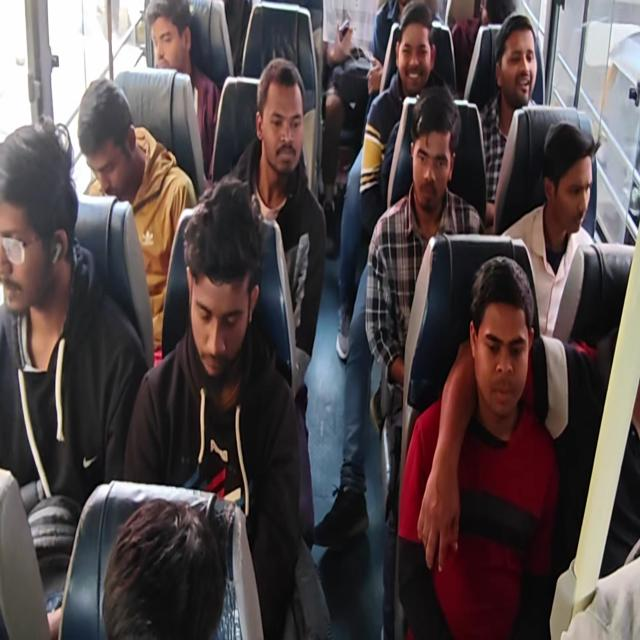person: (1, 1, 638, 639), (122, 175, 330, 638), (434, 120, 638, 579), (0, 115, 149, 636), (364, 86, 485, 637), (396, 255, 560, 638), (224, 56, 327, 550), (336, 1, 450, 361), (77, 77, 197, 366), (499, 120, 633, 354), (101, 496, 226, 639), (320, 0, 382, 232), (144, 0, 221, 179), (479, 12, 540, 230), (560, 553, 639, 639)
